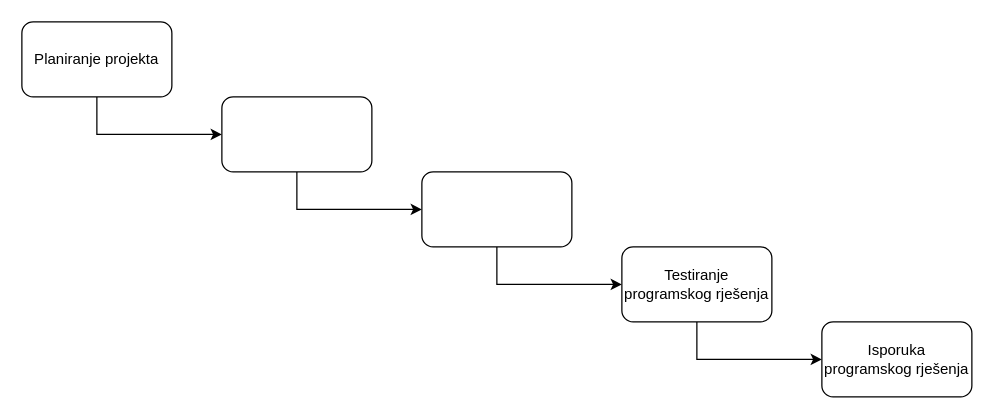
This 994x419 diagram has some shape labels left out. Each missing label, with the box of its shape:
Implementacija programskog rješenja: (421, 171, 572, 247)
Izrada tehničke dokumentacije: (221, 96, 372, 172)
